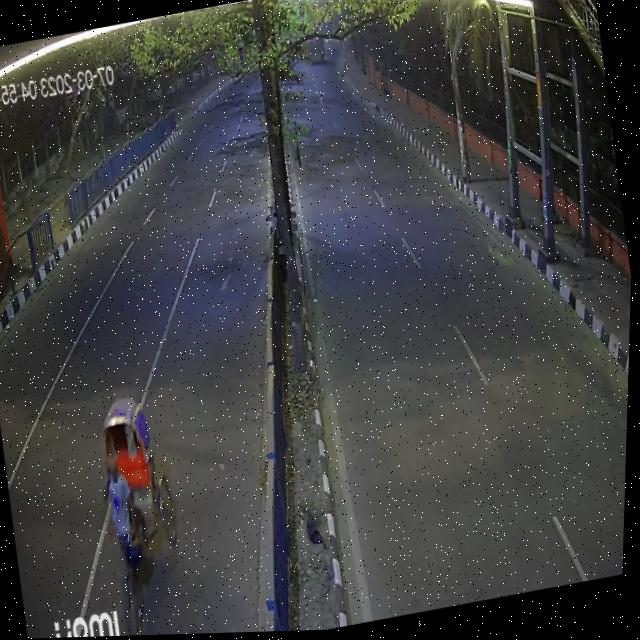rikshaw: (86, 385, 200, 638)
